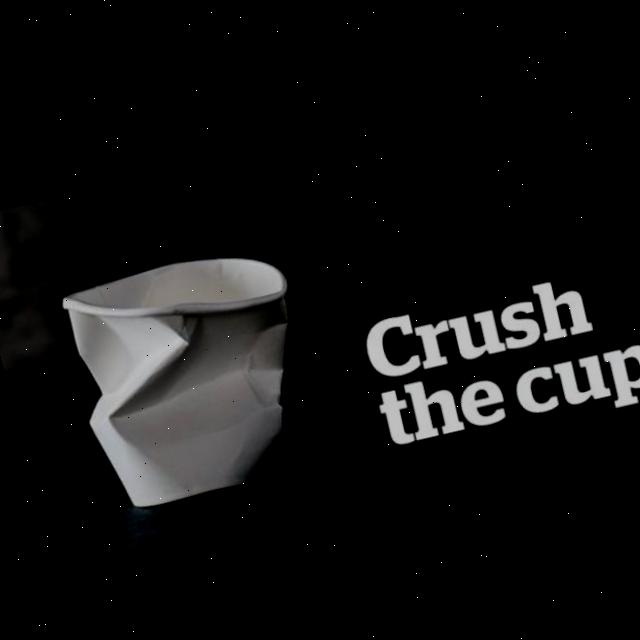trash: (56, 236, 330, 516)
